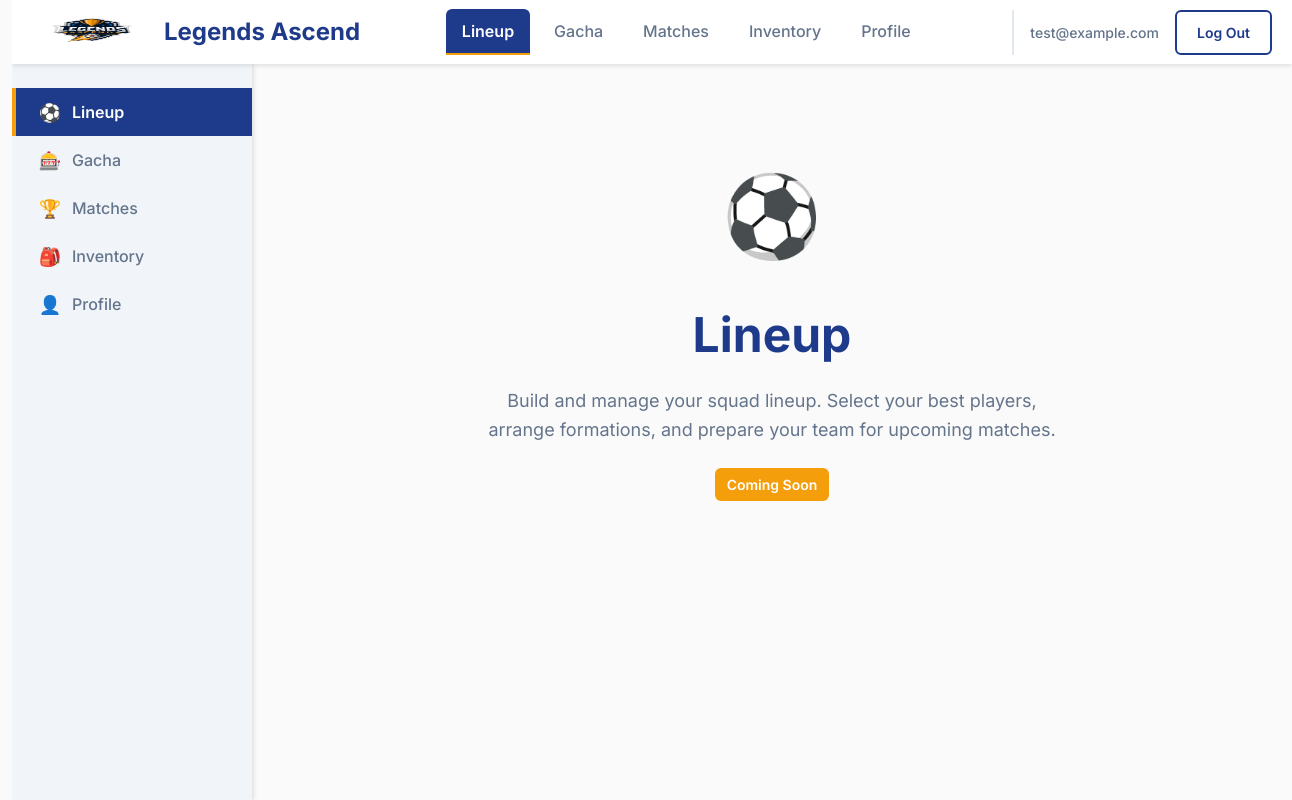
Test: Dashboard Acceptance Tests - PR #137 vs User Story #112 › Integration: Complete User Flows › should handle complete navigation flow across all pages
Expected: the text "Build and manage your squad lineup" is shown, [488, 390, 1056, 440]
# Navigate to Gacha
Click the button "Gacha". click: (579, 32)
box: [538, 9, 619, 55]
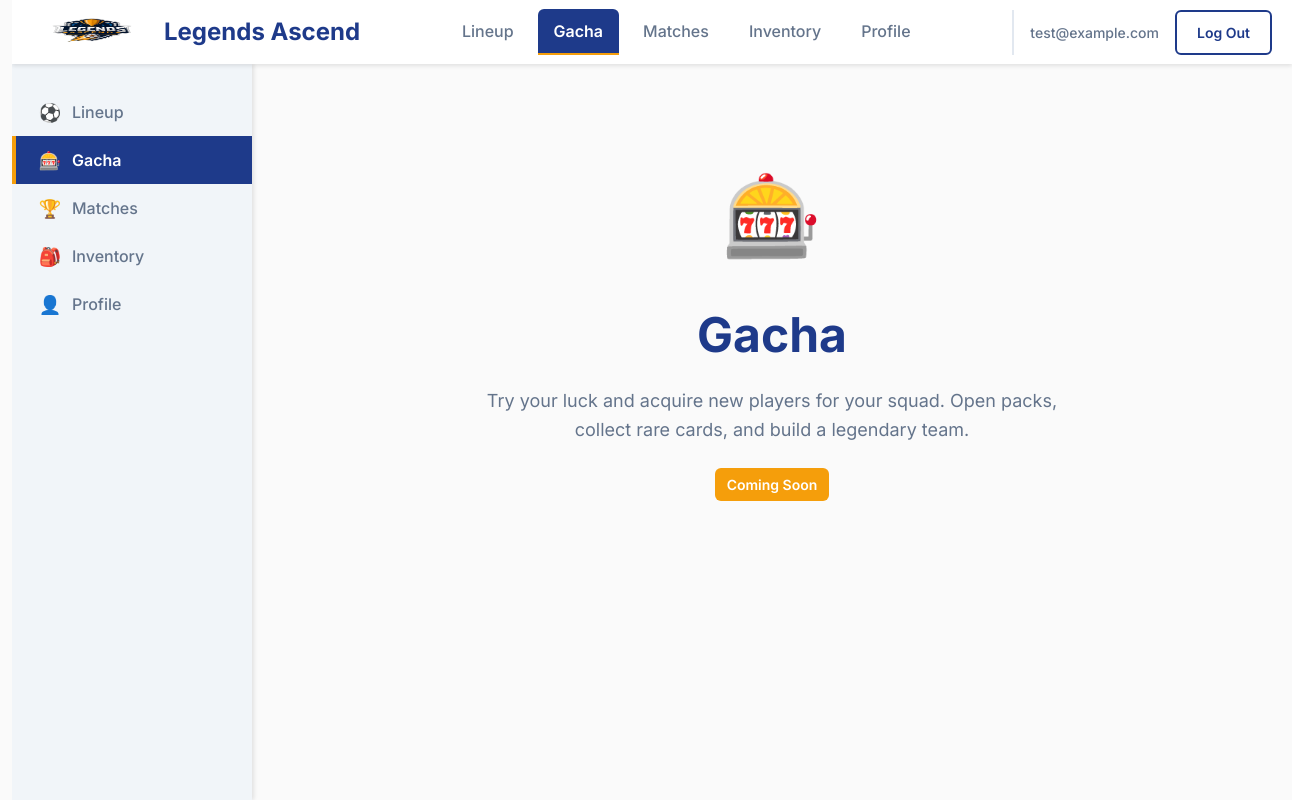
Expected: the text "Try your luck and acquire new players" is shown, [487, 390, 1057, 440]
# Navigate to Matches
Click the button "Matches". click: (676, 32)
box: [627, 9, 725, 55]
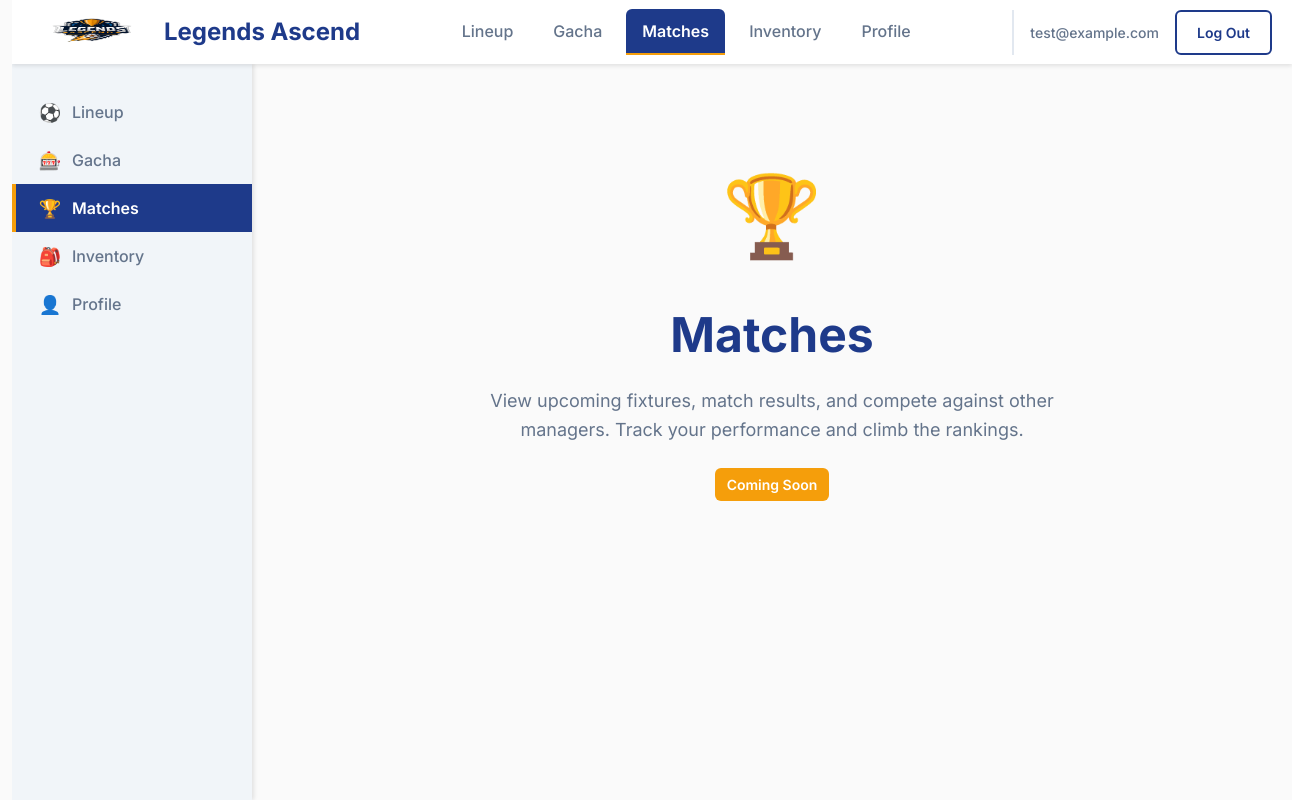
Expected: the text "View upcoming fixtures, match results" is shown, [490, 390, 1054, 440]
# Navigate to Inventory
Click the button "Inventory". click: (785, 32)
box: [733, 9, 837, 55]
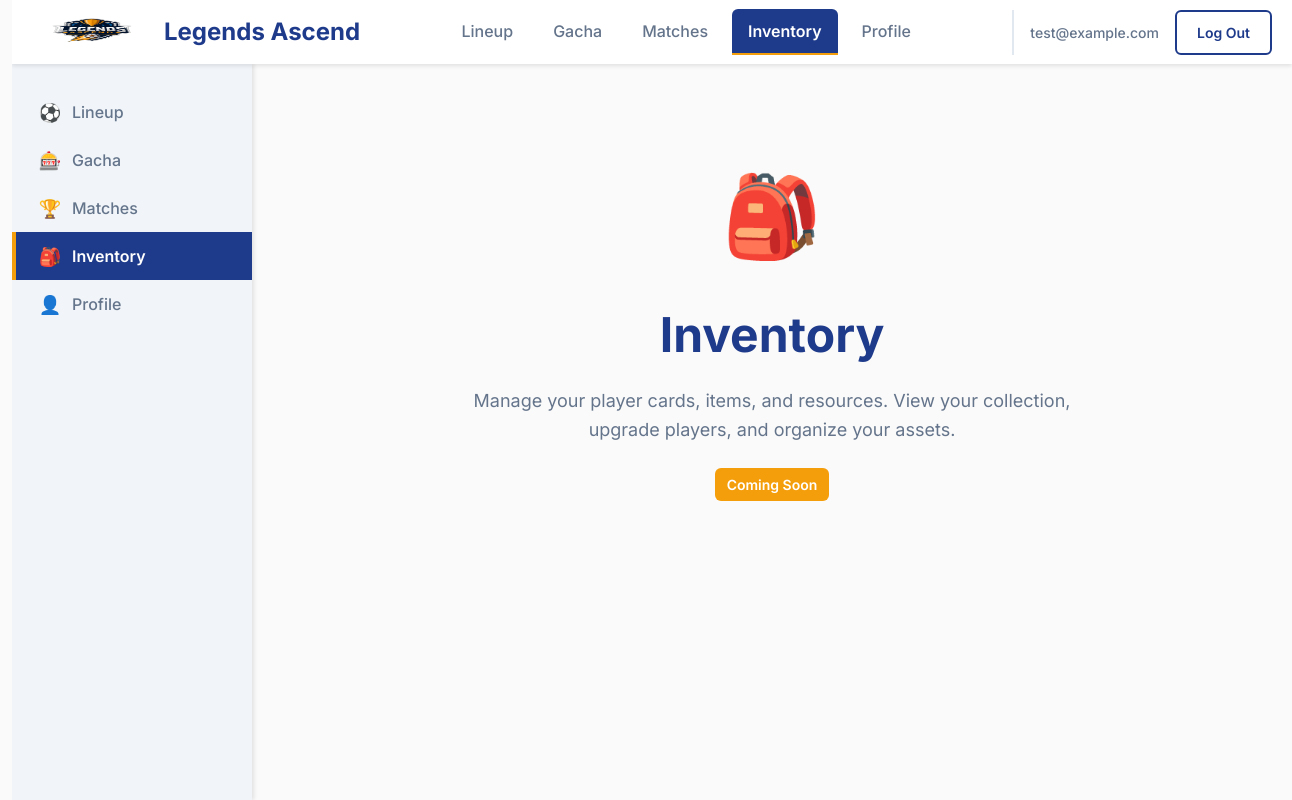
Expected: the text "Manage your player cards, items, and resources" is shown, [474, 390, 1070, 440]
# Navigate to Profile
Click the button "Profile". click: (886, 32)
box: [846, 9, 927, 55]
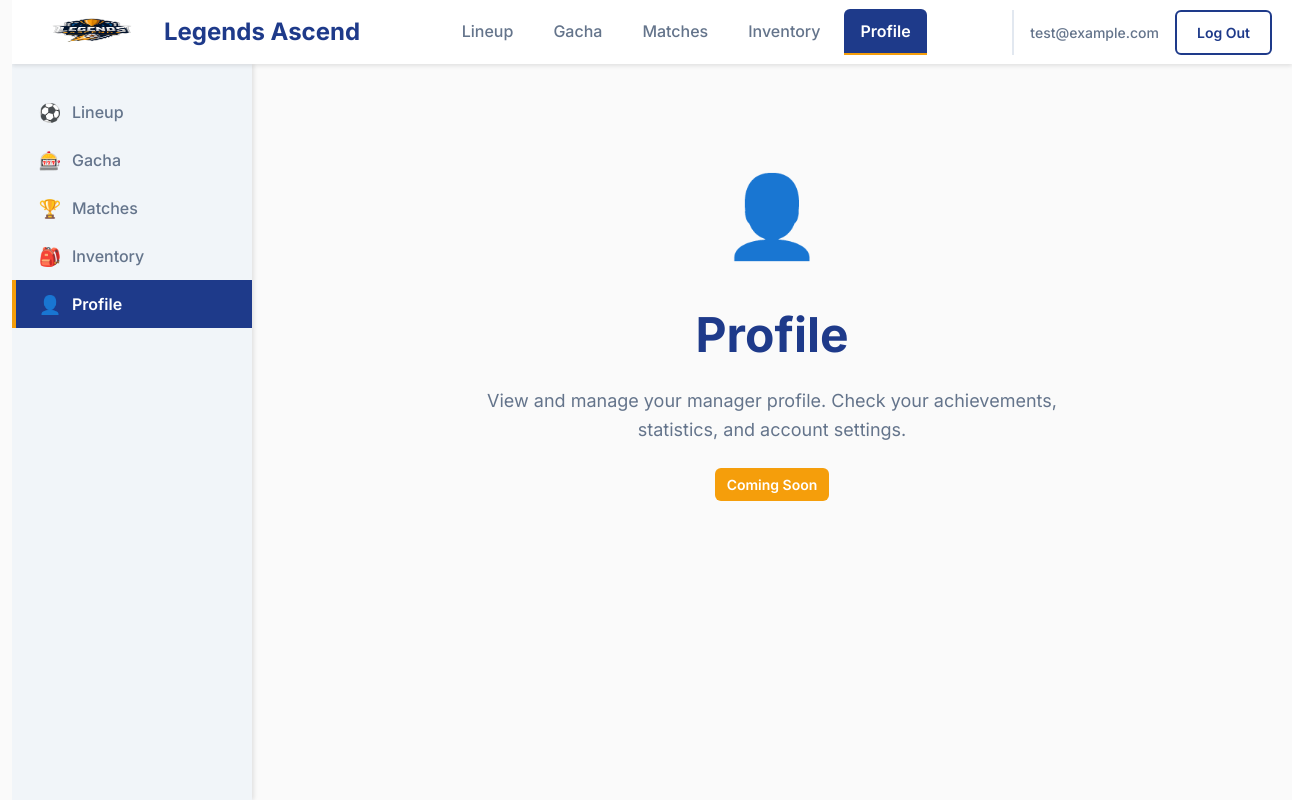
Expected: the text "View and manage your manager profile" is shown, [487, 390, 1057, 440]
# Navigate back to Lineup via logo
Click the link with aria-label "Legends Ascend - Go to dashboard". click: (196, 32)
box: [32, 12, 360, 52]
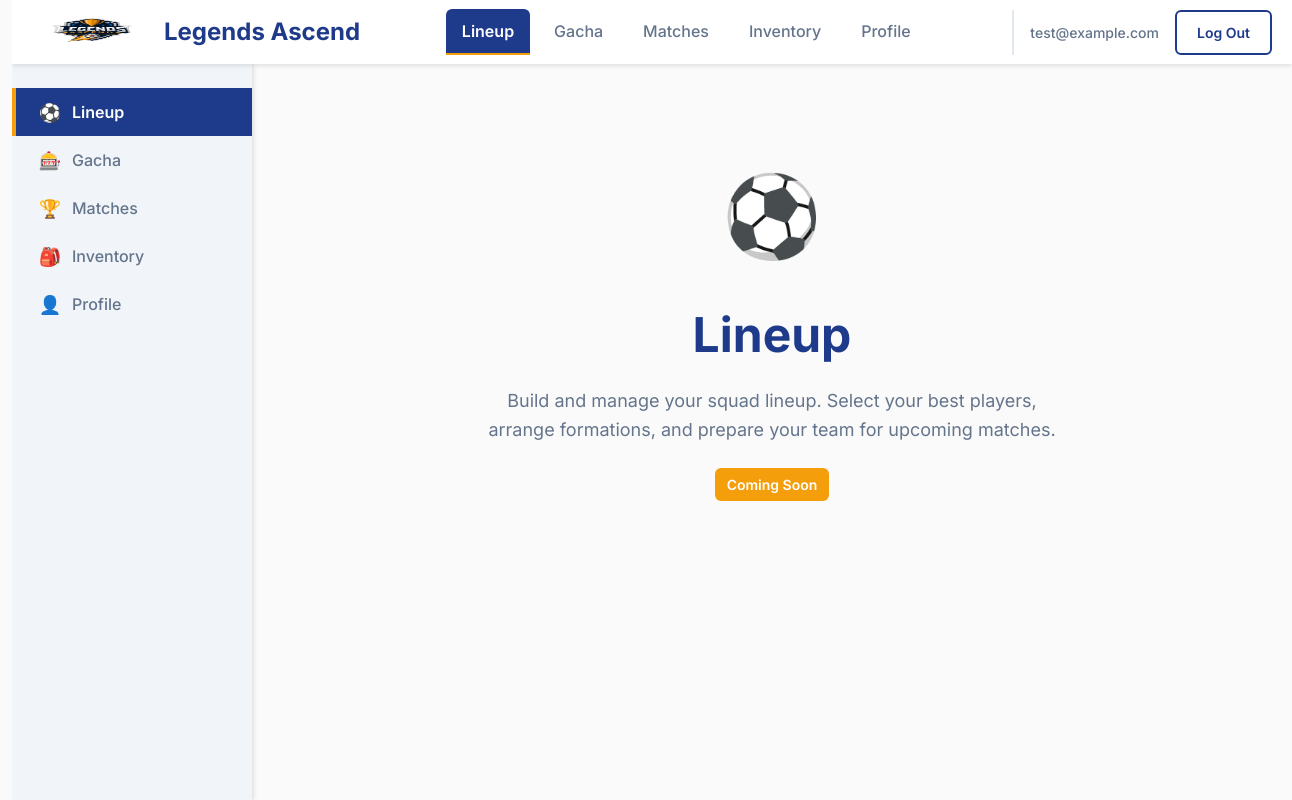
Expected: the text "Build and manage your squad lineup" is shown, [488, 390, 1056, 440]
